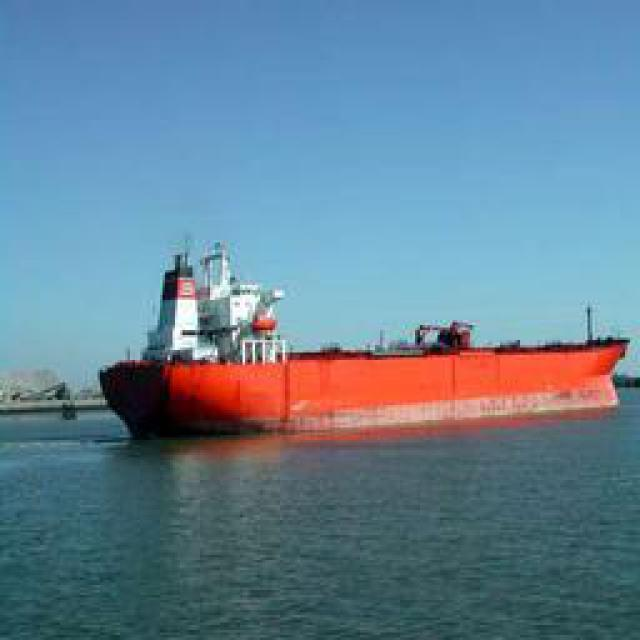Ship: (99, 300, 629, 440)
